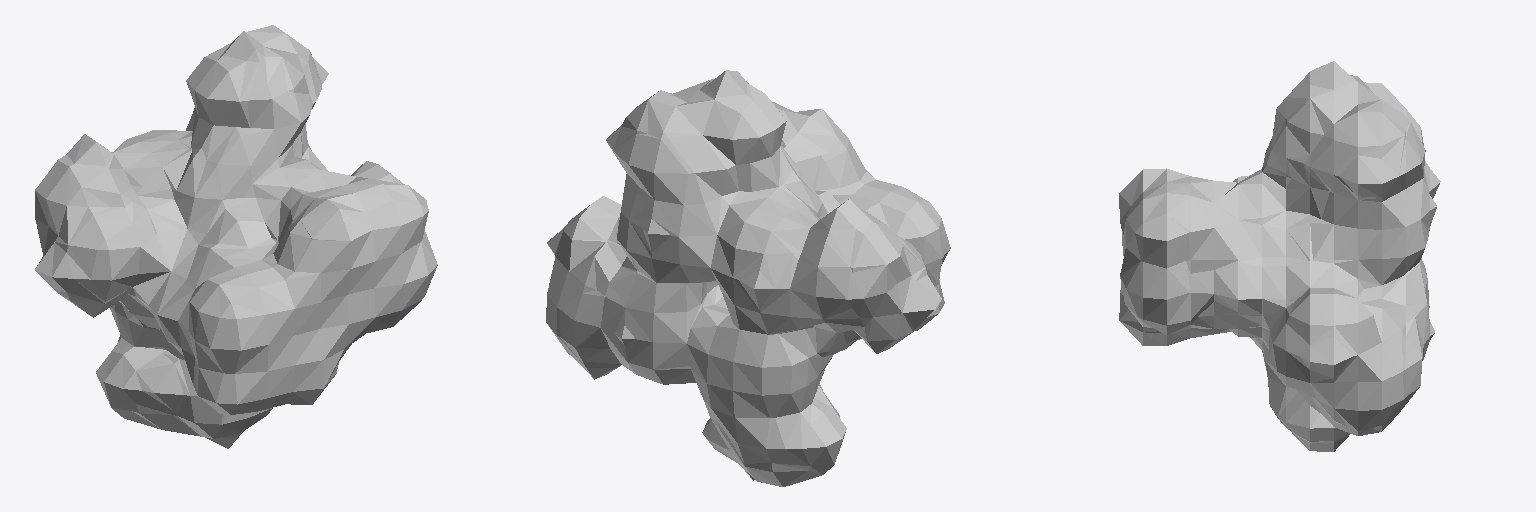
The model's file is 4j7c_mb_cms.obj.
3 views of the same model, side by side, from view 1: azimuth 30°, elevation 25°; view 2: azimuth 150°, elevation 25°; view 3: azimuth 270°, elevation 25° (orthographic).
Bounding box in the file's own units: 159 × 158 × 114.